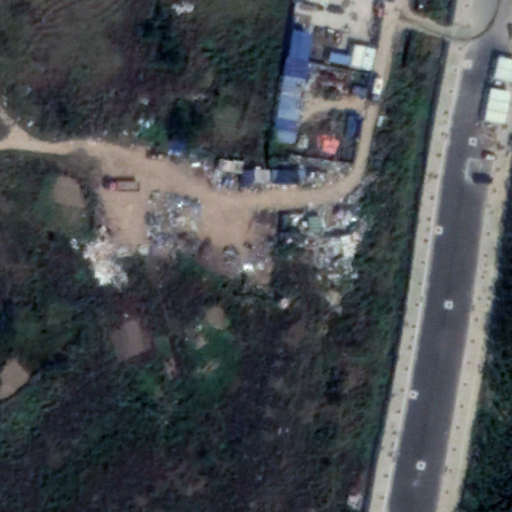msw: (244, 183, 372, 307), (143, 187, 206, 260), (81, 238, 132, 292)
